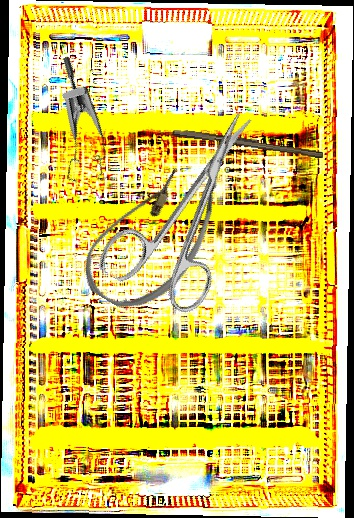Cannula: (71, 136, 238, 328)
Iris Scissors: (93, 89, 297, 324)
Scalpel Handle: (171, 126, 325, 159)
Speculum: (15, 54, 131, 196)
